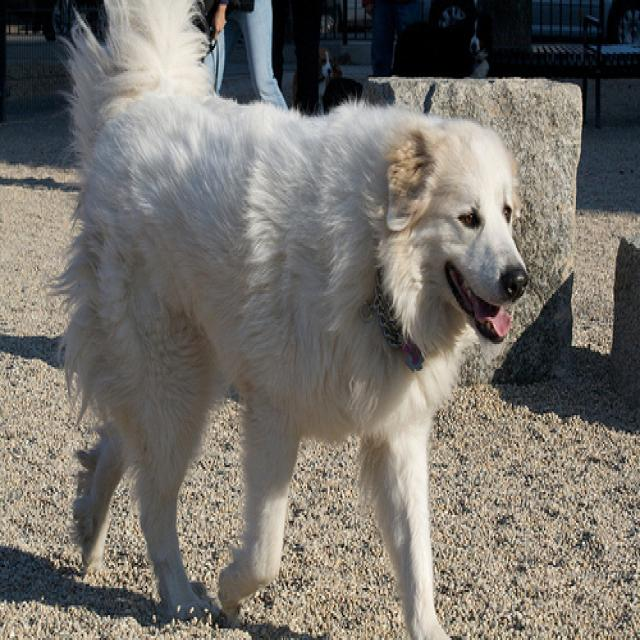dog-great_pyrenees: (44, 2, 535, 636)
